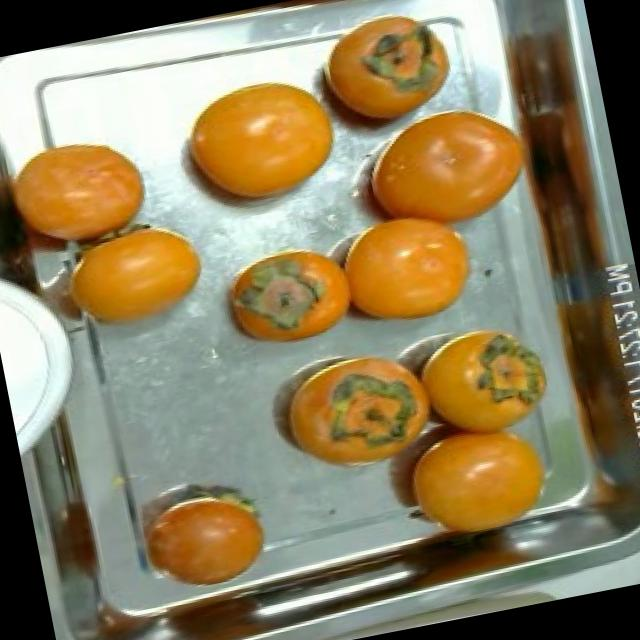Fruit: (336, 90, 552, 258), (159, 56, 361, 230), (364, 391, 576, 551), (304, 187, 504, 351), (253, 334, 448, 488), (390, 300, 572, 454), (36, 208, 226, 354), (294, 0, 473, 140), (0, 113, 166, 263), (199, 229, 371, 364), (126, 469, 286, 600)
